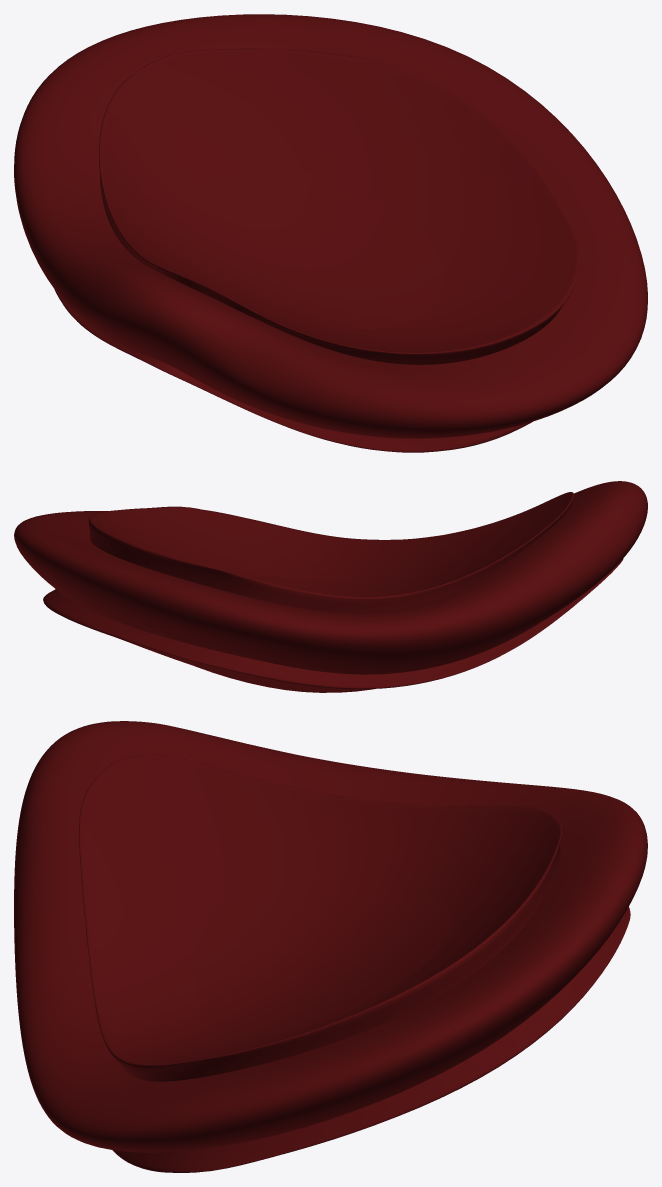
Rendered from leaf.fbx.
3 views of the same model, one above another, from view 1: azimuth 30°, elevation 25°; view 2: azimuth 150°, elevation 25°; view 3: azimuth 270°, elevation 25° (orthographic). The views are drawn at different scales.
Parts seen in each view (by area): view 1: Plane.039; view 2: Plane.039; view 3: Plane.039.
Boxes of the visible parts, <box> form: Plane.039: <box>14,14,647,452</box>; Plane.039: <box>14,481,647,692</box>; Plane.039: <box>14,721,647,1172</box>.
Size of the model in its own units: 16.59 by 6.71 by 15.29.
